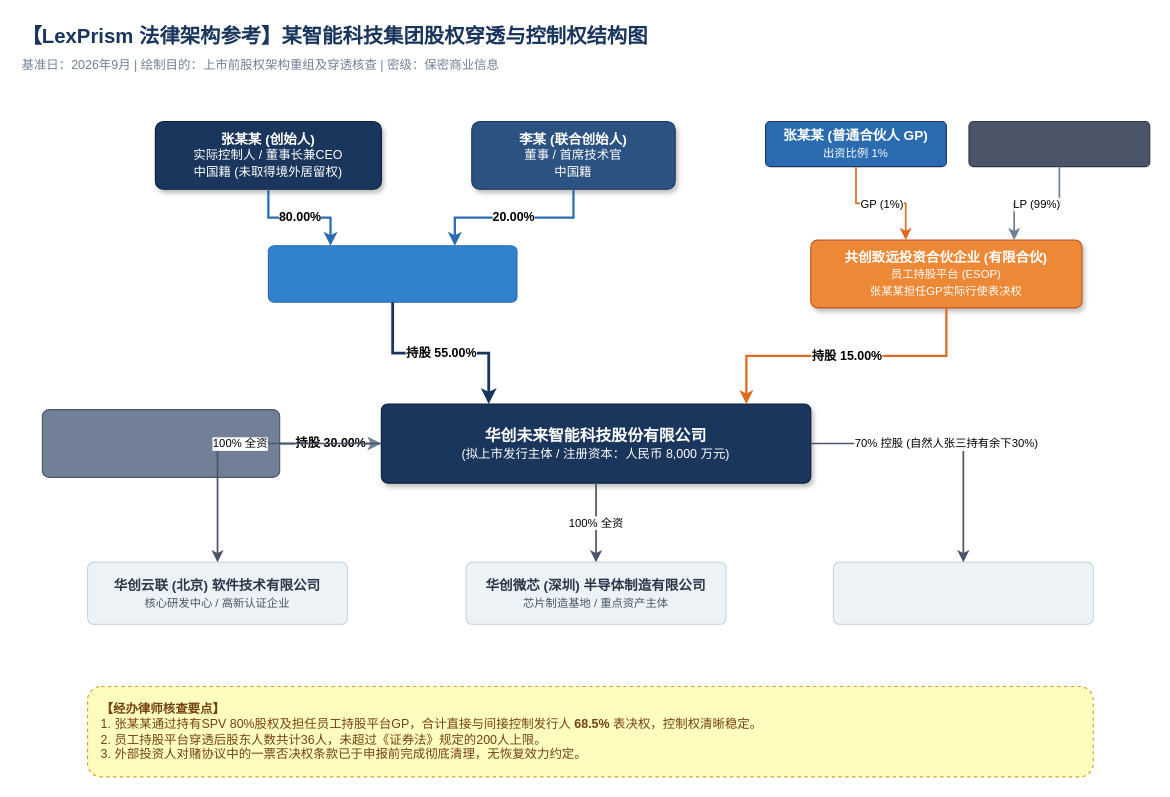
Some shapes in this 1170 by 797 pixel diagram are drawn without their labels. Each missing label, with the centre of its shape:
华创智造 (苏州) 自动化设备有限公司 生产与装配基地: pixel 962 592
核心员工35人 (有限合伙人 LP) 合计出资 99%: pixel 1059 143
聚智投资管理 (深圳) 有限公司 (境内控股平台 SPV 1): pixel 392 273
领航新动能一期基金 (有限合伙) A轮领投机构 (已完成备案登记): pixel 160 442
